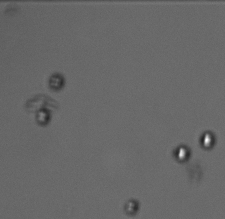Dead Cell: (32, 107, 53, 126), (48, 72, 66, 91), (122, 199, 140, 214)
Living Cell: (198, 130, 217, 151), (172, 143, 190, 163)
